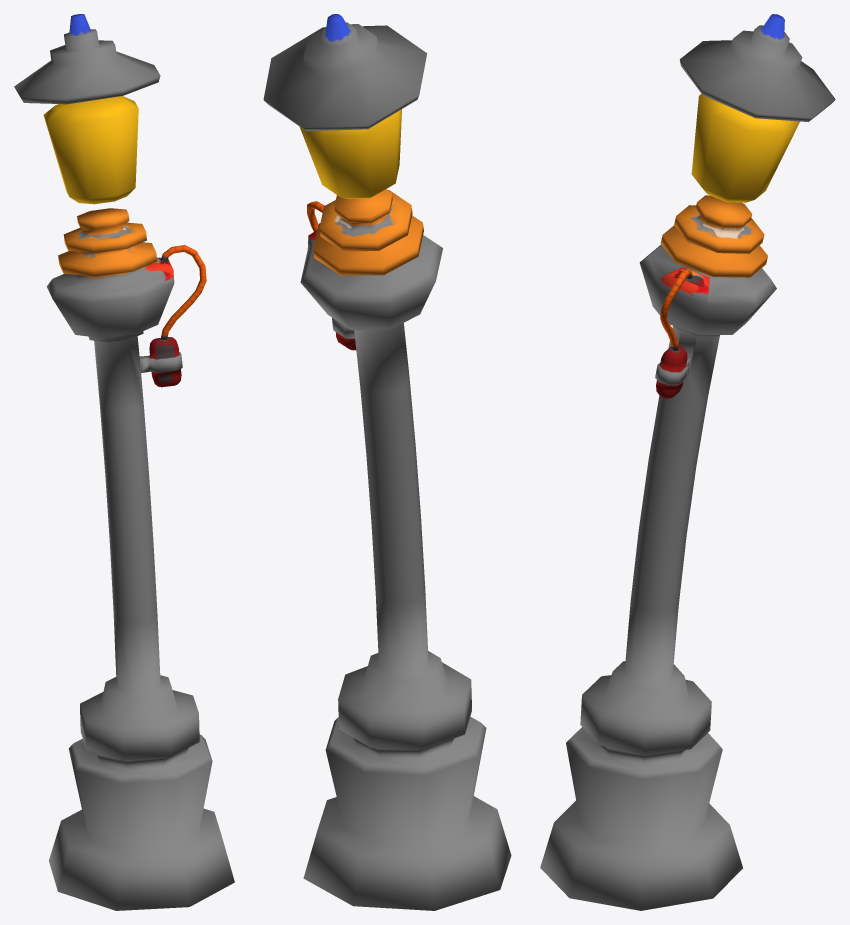
Rendered from PROP_Streetlight01.FBX.
3 views of the same model, side by side, from view 1: azimuth 30°, elevation 25°; view 2: azimuth 150°, elevation 25°; view 3: azimuth 270°, elevation 25° (orthographic). The views are drawn at different scales.
Parts seen in each view (by area): view 1: Farola; view 2: Farola; view 3: Farola.
Part boxes in pixels (x1,y1,x2,y2): Farola: [14, 14, 234, 910]; Farola: [263, 14, 511, 910]; Farola: [540, 14, 835, 910].
Size of the model in its own units: 83.27 by 386 by 121.
